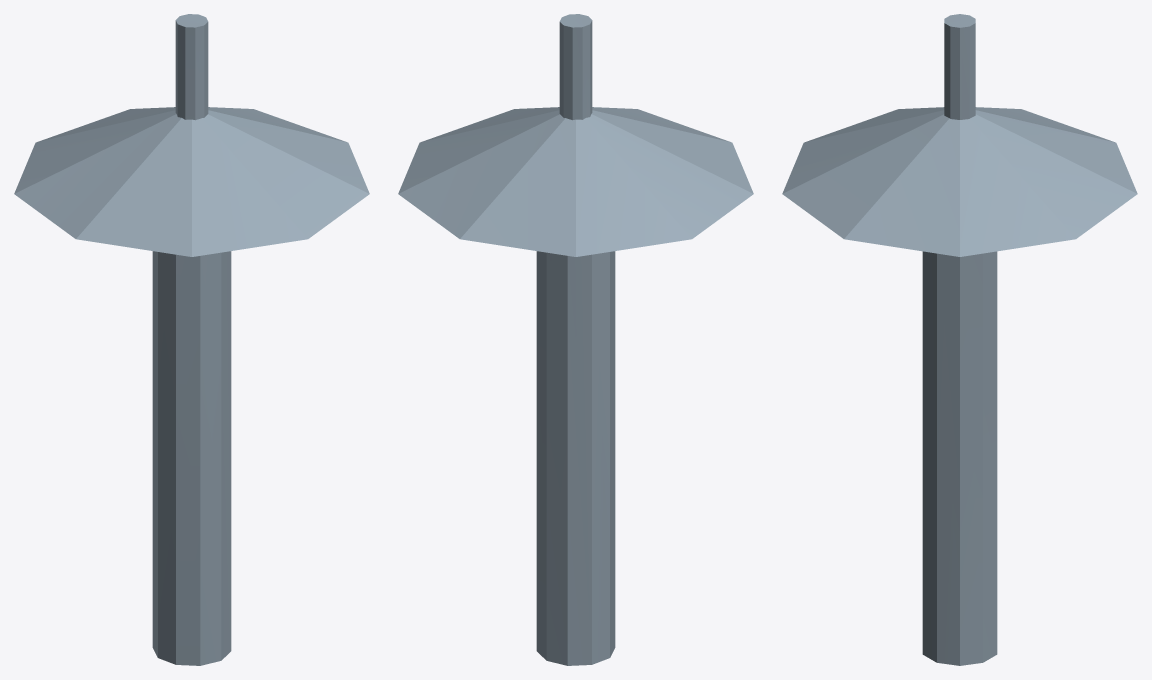
The model's file is satellite_dish-06.glb.
3 renders of one model, left to right at view 1: azimuth 30°, elevation 25°; view 2: azimuth 150°, elevation 25°; view 3: azimuth 270°, elevation 25°, orthographic.
Parts seen in each view (by area): view 1: world; view 2: world; view 3: world.
Boxes of the visible parts, box(x1,y1,x2,y2) form: world: box(14, 14, 369, 665); world: box(398, 14, 753, 665); world: box(782, 14, 1137, 665).
Bounding box in the file's own units: 1.07 × 2.11 × 1.08.
